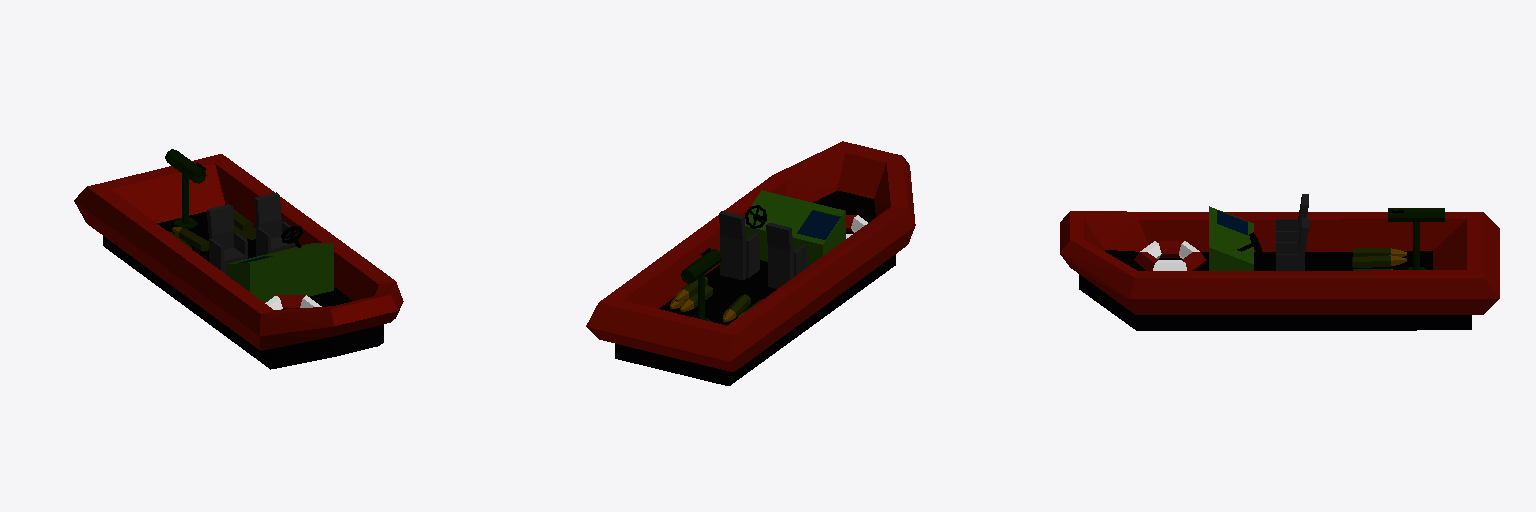
The model's file is MilitaryBoat.obj.
The picture shows the model from 3 angles: view 1: azimuth 30°, elevation 25°; view 2: azimuth 150°, elevation 25°; view 3: azimuth 270°, elevation 25°; orthographic projection.
Parts seen in each view (by area): view 1: Military_Boat_Cylinder.005; view 2: Military_Boat_Cylinder.005; view 3: Military_Boat_Cylinder.005.
Boxes of the visible parts, x1=… form: Military_Boat_Cylinder.005: x1=74, y1=149, x2=403, y2=369; Military_Boat_Cylinder.005: x1=586, y1=141, x2=915, y2=385; Military_Boat_Cylinder.005: x1=1060, y1=194, x2=1499, y2=330.
Size of the model in its own units: 10.01 by 6.29 by 26.46.